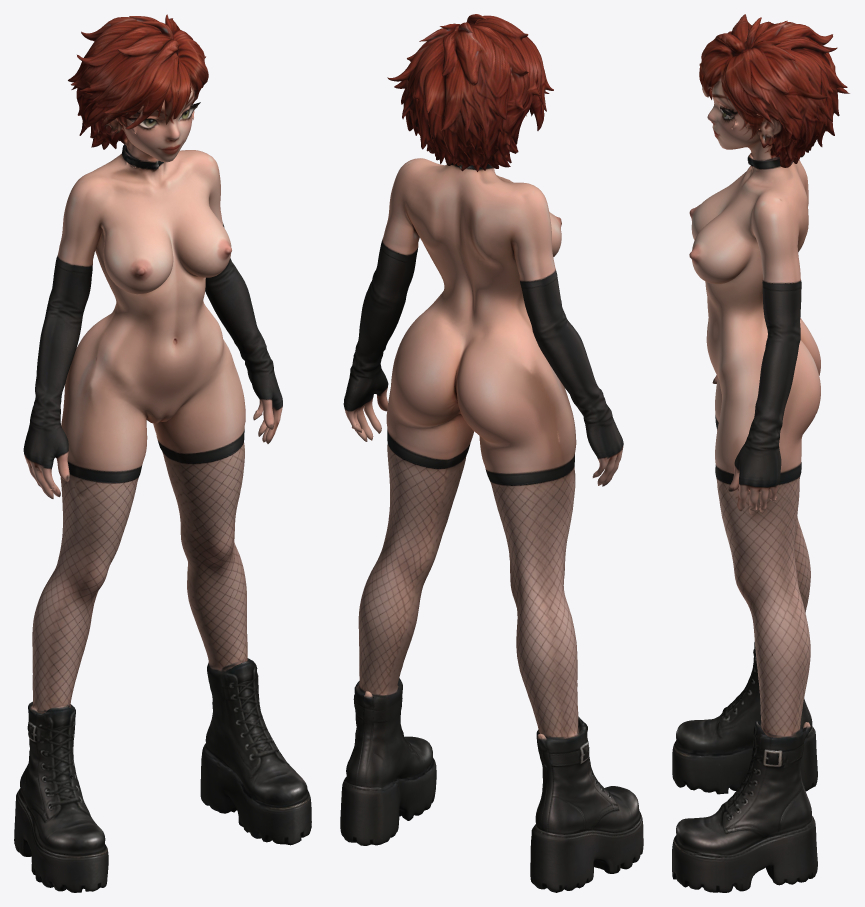
File: tripo_convert_01894985-5043-4560-b6c1-dcb6e8f2faf5.fbx
The picture shows the model from 3 angles, left to right: view 1: azimuth 30°, elevation 25°; view 2: azimuth 150°, elevation 25°; view 3: azimuth 270°, elevation 25°; orthographic projection. The views are drawn at different scales.
Parts seen in each view (by area): view 1: tripo_node_01894985; view 2: tripo_node_01894985; view 3: tripo_node_01894985.
Part boxes in pixels (x1,y1,x2,y2): tripo_node_01894985: (14, 14, 311, 892); tripo_node_01894985: (340, 14, 643, 892); tripo_node_01894985: (672, 14, 849, 892).
Bounding box in the file's own units: 0.3303 × 0.9773 × 0.1953.
1 material, 1 textured.
